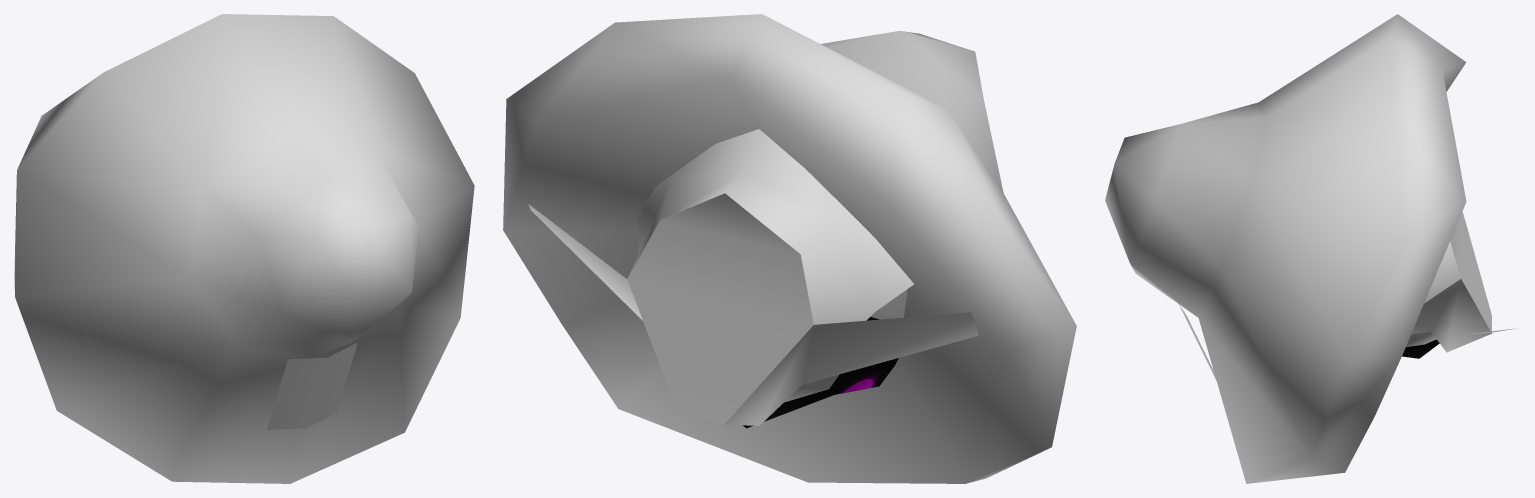
3 views of the same model, side by side, from view 1: azimuth 30°, elevation 25°; view 2: azimuth 150°, elevation 25°; view 3: azimuth 270°, elevation 25° (orthographic). The views are drawn at different scales.
Parts seen in each view (by area): view 1: shroomcap.model-MeshNodes["shroomcap"]; view 2: shroomcap.model-MeshNodes["shroomcap"], face.part_model_face-Mesh[0]; view 3: shroomcap.model-MeshNodes["shroomcap"].
Part boxes in pixels (bbox=[...]): shroomcap.model-MeshNodes["shroomcap"]: bbox=[14, 14, 474, 483]; shroomcap.model-MeshNodes["shroomcap"]: bbox=[503, 14, 1076, 483]; face.part_model_face-Mesh[0]: bbox=[743, 317, 898, 428]; shroomcap.model-MeshNodes["shroomcap"]: bbox=[1105, 14, 1517, 483].
Size of the model in its own units: 0.9183 by 0.8024 by 0.7198.
Materials: 3 (2 with a texture image).
